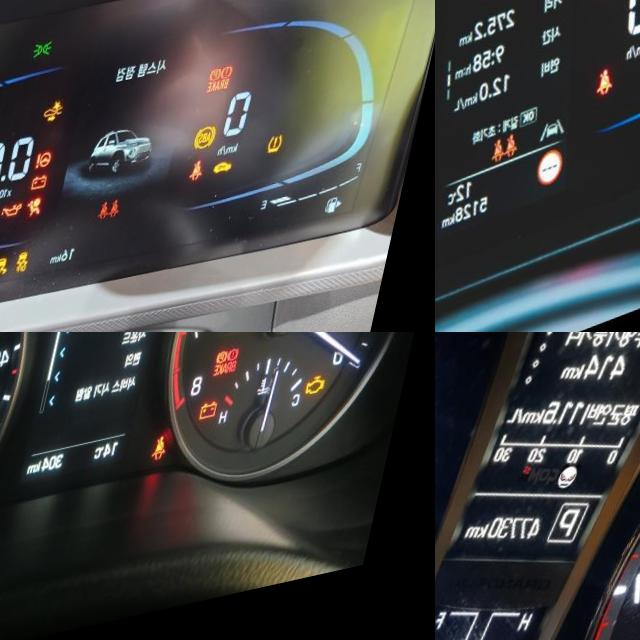LaneCenteringOff: (557, 131, 587, 159)
SideLamp: (41, 50, 62, 69)
